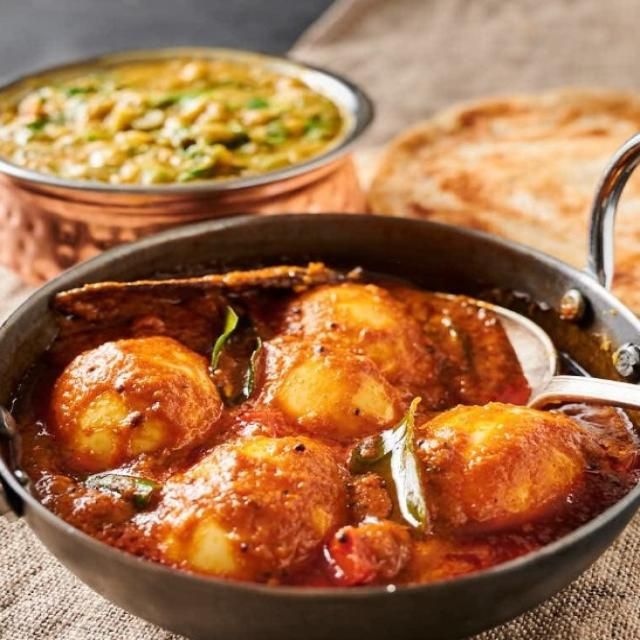EGG: (19, 272, 629, 586)
VEGGIES: (0, 59, 341, 183)
